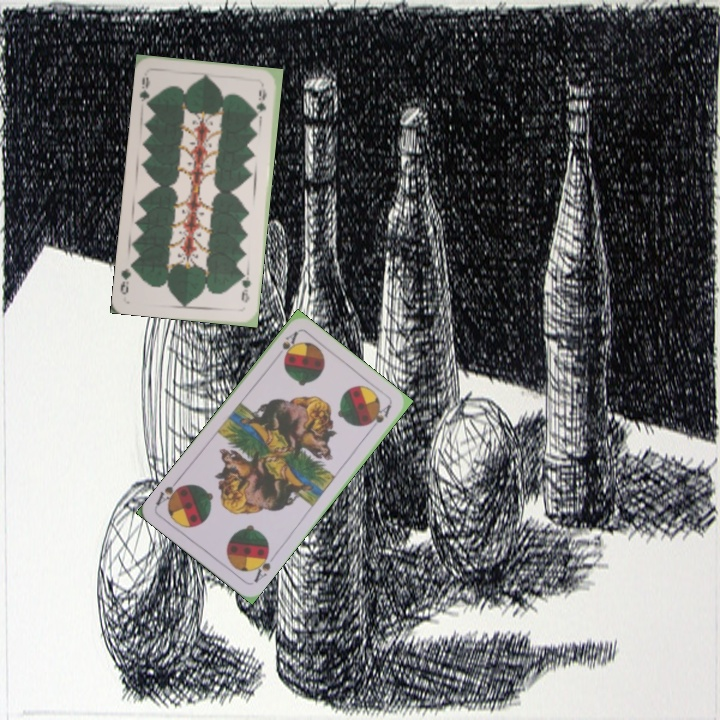G9: (135, 73, 155, 111), (237, 269, 254, 305)
SA: (249, 547, 273, 586), (278, 327, 301, 362)
